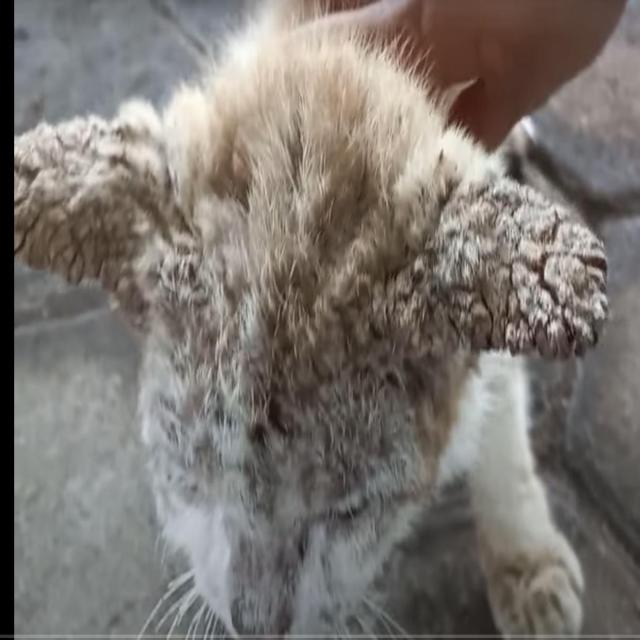ghe: (327, 137, 628, 431), (18, 118, 180, 288)
